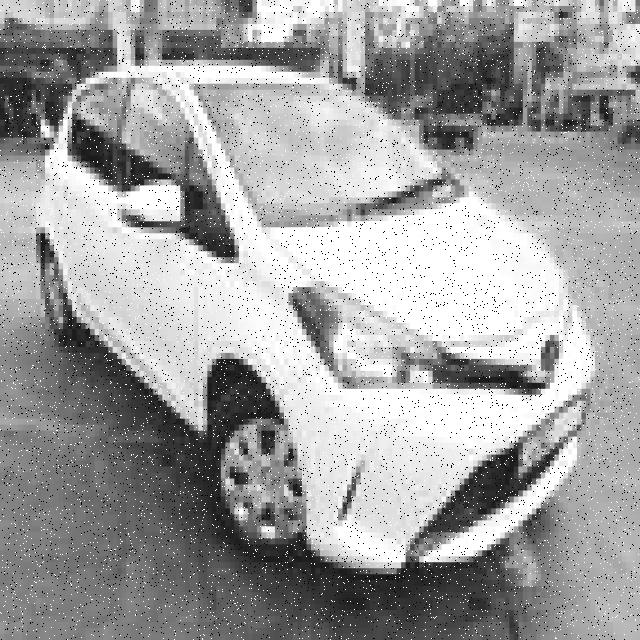car: (30, 54, 602, 571)
